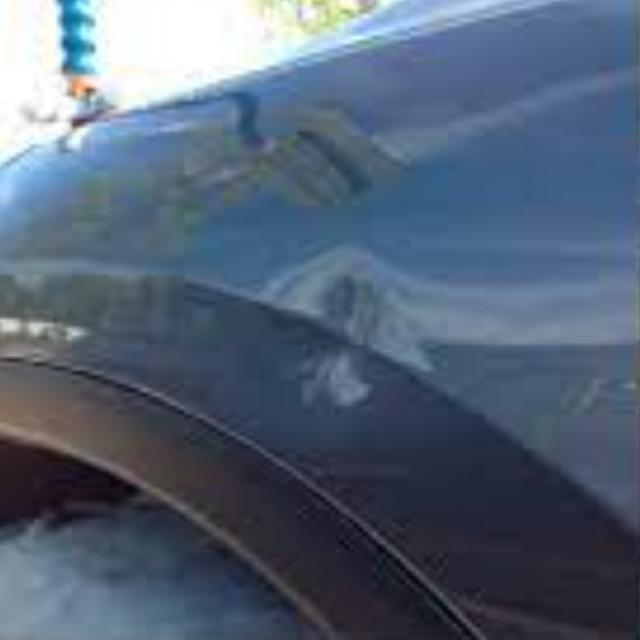dents: (284, 247, 412, 438)
